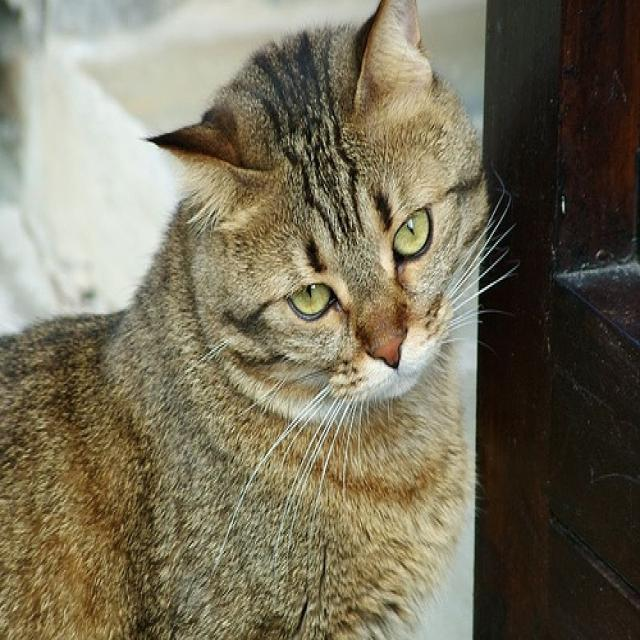cat: (1, 3, 522, 639)
